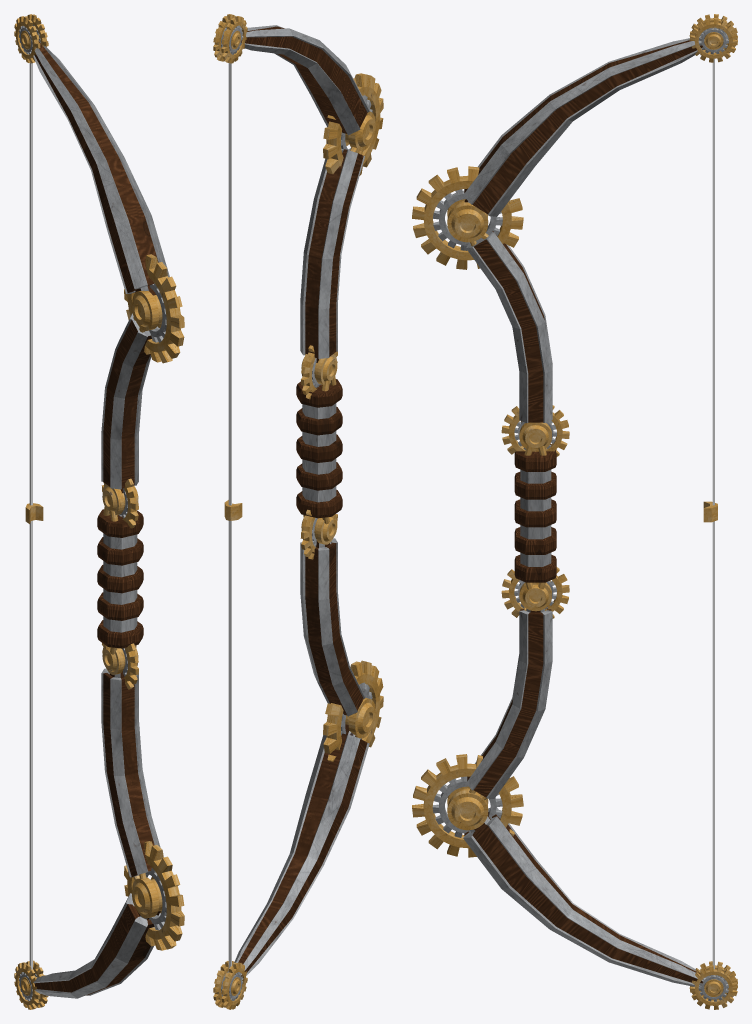
Rendered from bow.fbx.
3 views of the same model, side by side, from view 1: azimuth 30°, elevation 25°; view 2: azimuth 150°, elevation 25°; view 3: azimuth 270°, elevation 25° (orthographic).
Parts seen in each view (by area): view 1: Cylinder.001, Cylinder.003, Cylinder.002, Cylinder, Plane, Plane.001, Plane.002; view 2: Cylinder.003, Cylinder.001, Cylinder, Cylinder.002, Plane, Plane.001, Plane.002; view 3: Cylinder.001, Cylinder.003, Cylinder, Cylinder.002, Plane, Plane.001, Plane.002.
Boxes of the visible parts, bbox=[...] form: Cylinder.001: bbox=[14, 14, 184, 363]; Cylinder.003: bbox=[14, 841, 184, 1009]; Cylinder.002: bbox=[101, 643, 160, 880]; Cylinder: bbox=[101, 313, 160, 528]; Plane: bbox=[97, 506, 143, 654]; Plane.001: bbox=[29, 520, 32, 969]; Plane.002: bbox=[29, 63, 32, 505]; Cylinder.003: bbox=[213, 660, 383, 1009]; Cylinder.001: bbox=[213, 14, 383, 175]; Cylinder: bbox=[300, 147, 364, 399]; Cylinder.002: bbox=[300, 509, 364, 716]; Plane: bbox=[296, 376, 342, 524]; Plane.001: bbox=[228, 521, 231, 970]; Plane.002: bbox=[228, 63, 231, 505]; Cylinder.001: bbox=[412, 14, 737, 269]; Cylinder.003: bbox=[412, 754, 737, 1009]; Cylinder: bbox=[466, 225, 569, 456]; Cylinder.002: bbox=[466, 567, 569, 800]; Plane: bbox=[514, 443, 556, 589]; Plane.001: bbox=[712, 521, 714, 975]; Plane.002: bbox=[712, 52, 714, 505].
Bounding box in the file's own units: 65.89 × 1714 × 511.
13 materials, 13 textured.
